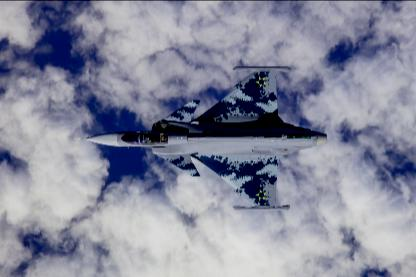JAS39: (72, 66, 328, 210)
